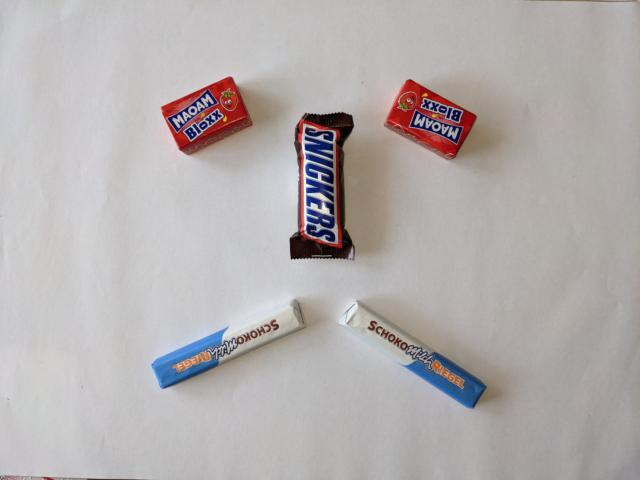MAOAM: (380, 77, 479, 163), (158, 75, 255, 157)
Schokoriegel: (334, 296, 488, 412), (149, 296, 311, 391)
Snickers: (288, 110, 358, 265)
